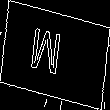M_S: (37, 26, 73, 84)
